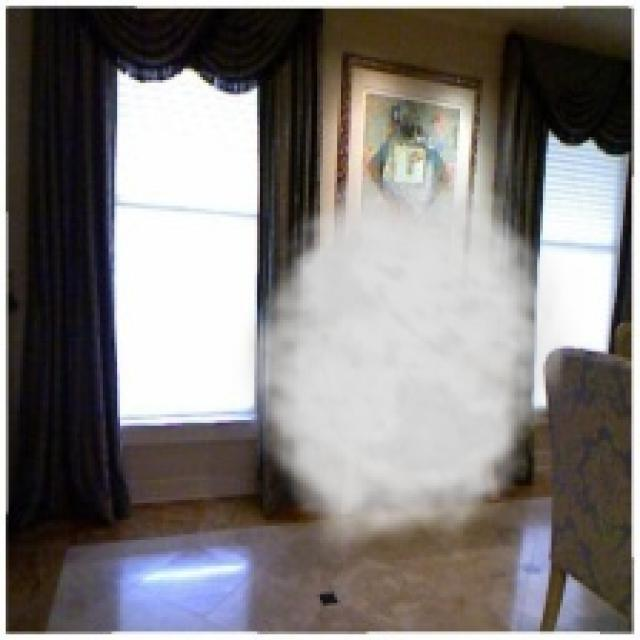Smoke: (231, 154, 583, 563)
